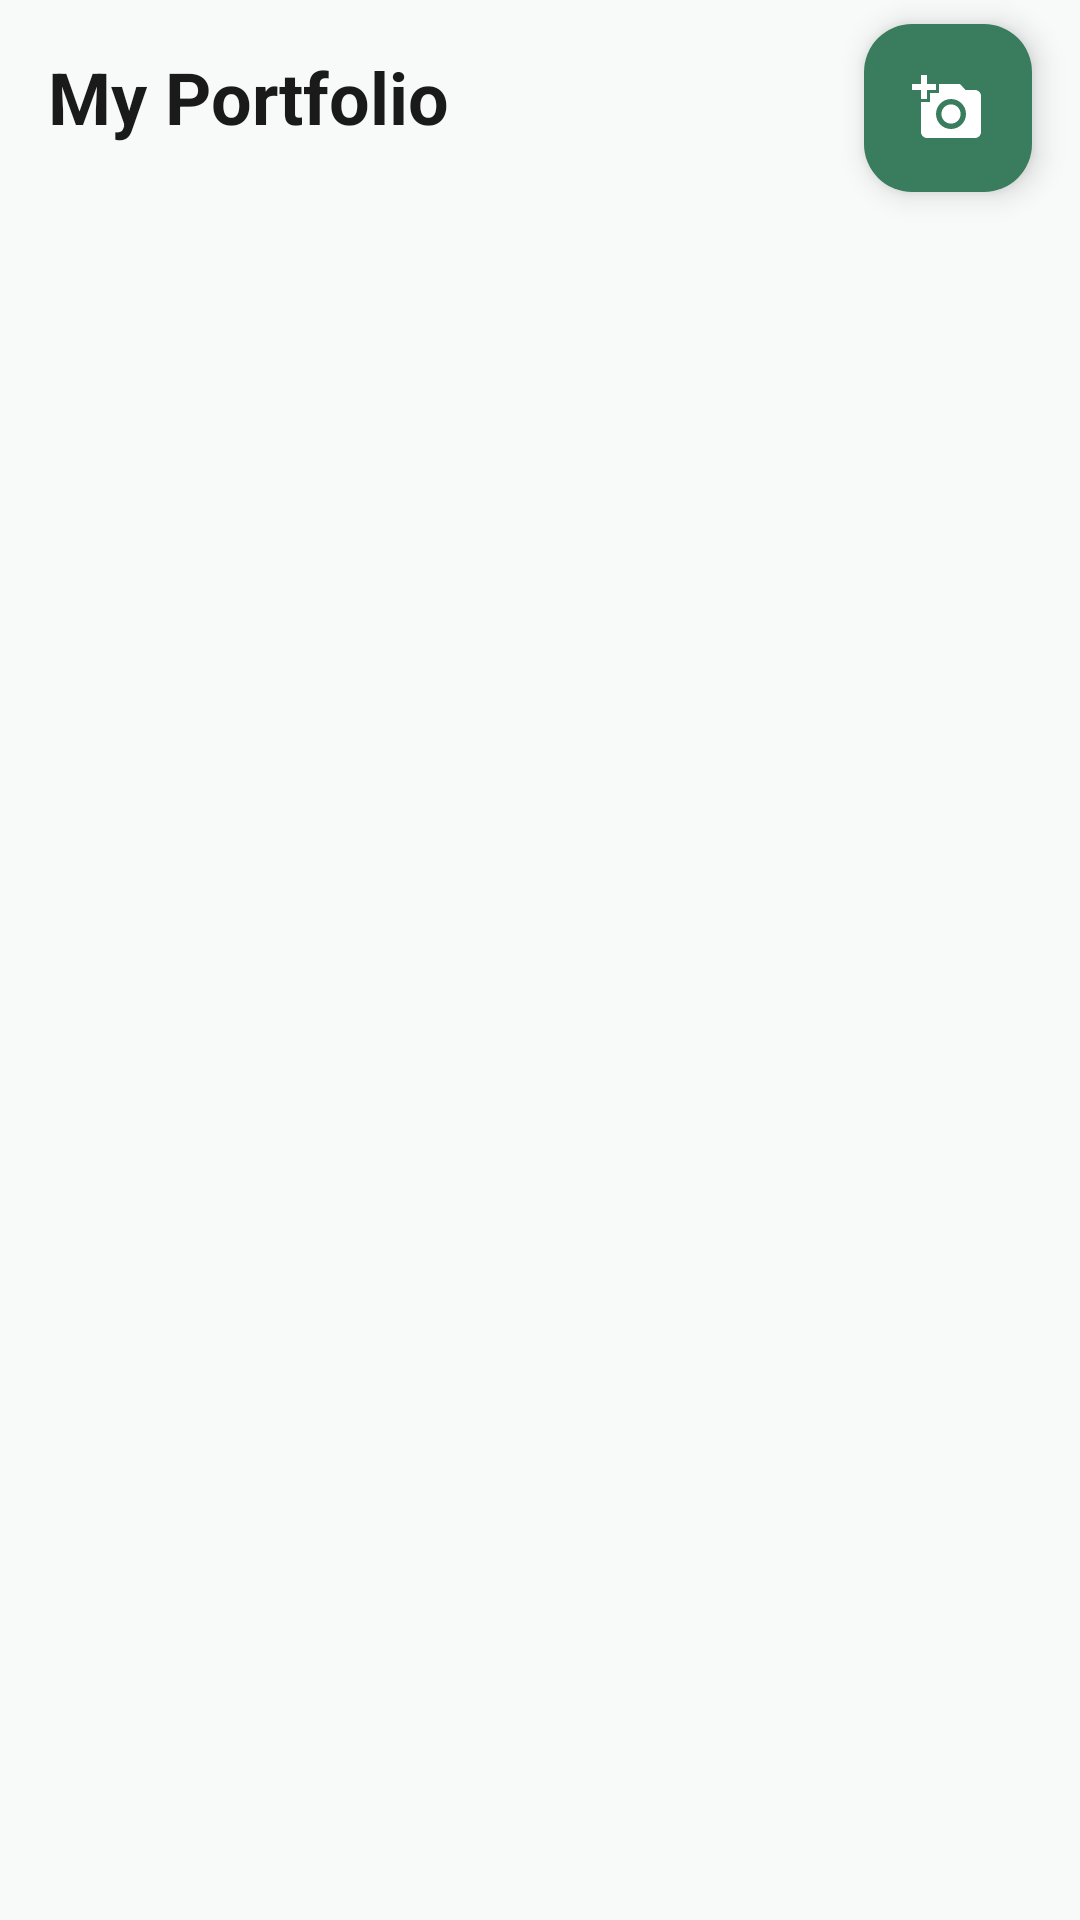

Point at icon controls on the screen. Image size 1080 × 1920, points as point (x, y).
add photo: point (948, 108)
